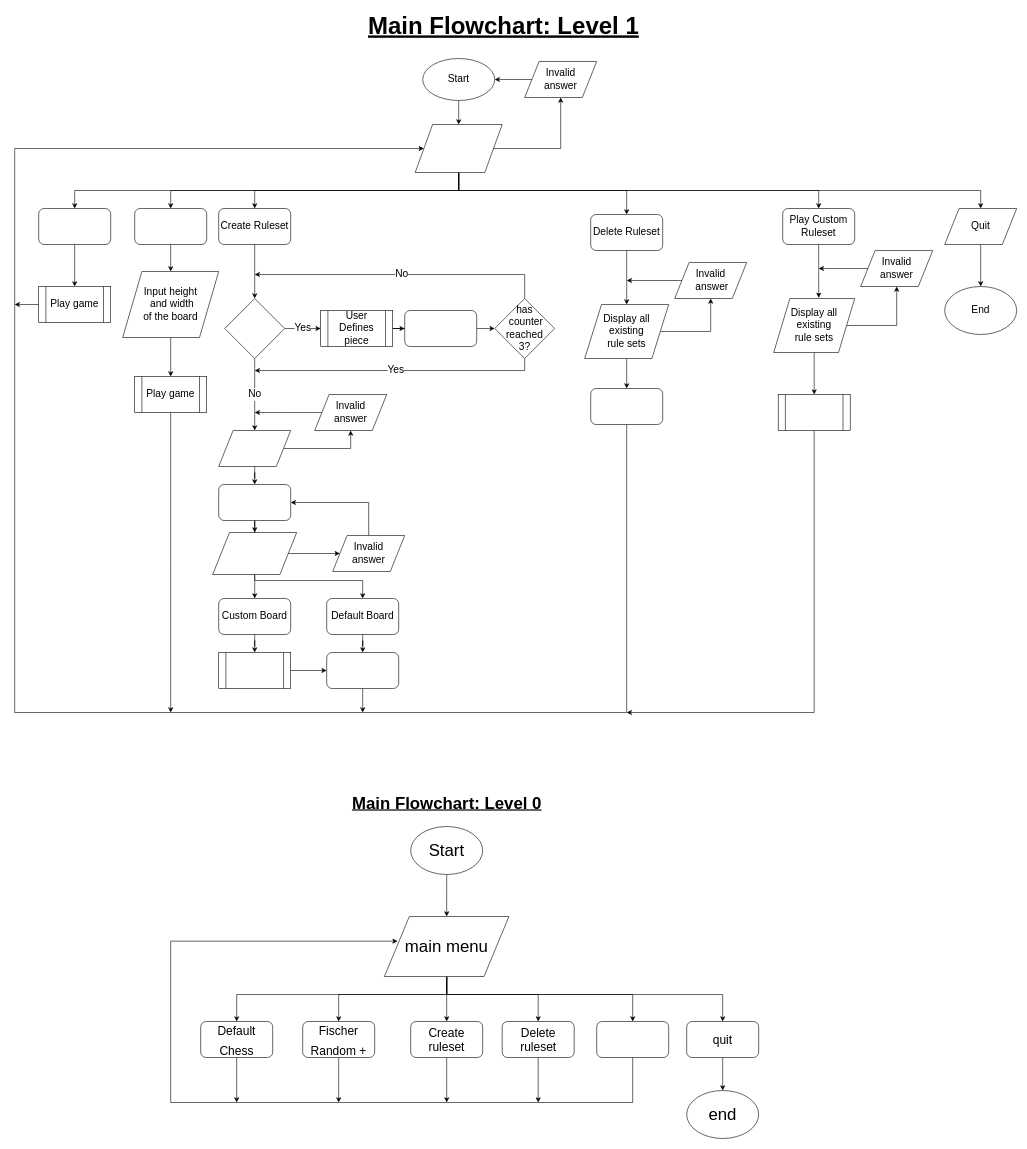
Image size: 1027x1149. Some labels were removed from this diagram. The shapes that lost their labels are listed below. From the top down, each one's centre as x and y in pixels, then its label:
the point at 458,148: Display Main menu
the point at 74,226: Play Default Chess
the point at 170,226: Play Fischer Random+
the point at 254,328: Make piece?
the point at 440,328: Increment counter
the point at 626,406: Delete rule set selected by user
the point at 814,412: Play rule set selected by user
the point at 254,448: Display win Conditions
the point at 254,502: Select win condition
the point at 254,553: Display board options
the point at 254,670: Board Creation
the point at 362,670: Save ruleset
the point at 632,1039: Play Custom
